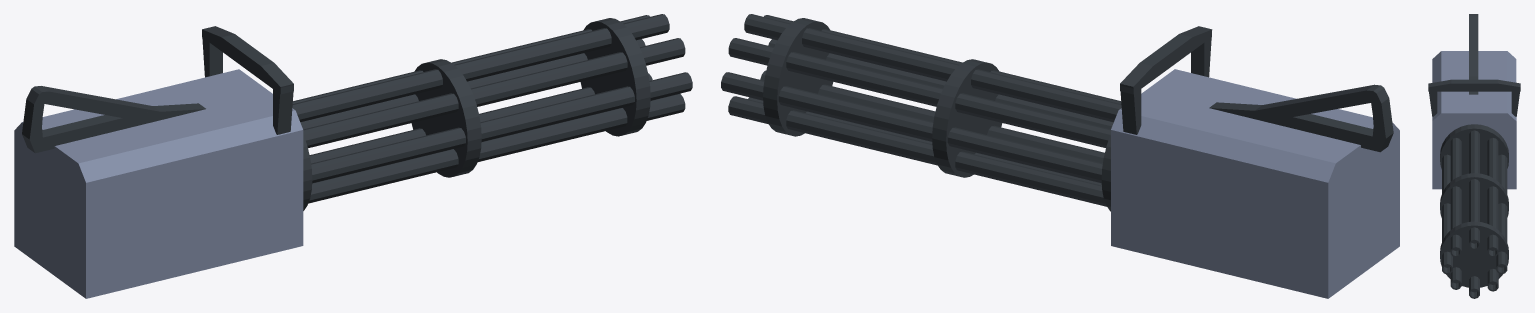
The model's file is Minigun.fbx.
The picture shows the model from 3 angles, left to right: view 1: azimuth 30°, elevation 25°; view 2: azimuth 150°, elevation 25°; view 3: azimuth 270°, elevation 25°; orthographic projection. The views are drawn at different scales.
Parts seen in each view (by area): view 1: Minigun1, Minigun2; view 2: Minigun1, Minigun2; view 3: Minigun2, Minigun1.
Part boxes in pixels (x1,y1,x2,y2): Minigun1: [14, 26, 303, 298]; Minigun2: [292, 14, 692, 210]; Minigun1: [1111, 26, 1399, 298]; Minigun2: [721, 14, 1121, 211]; Minigun2: [1440, 124, 1508, 298]; Minigun1: [1428, 14, 1520, 189].
Size of the model in its own units: 172 by 48.16 by 36.79.
